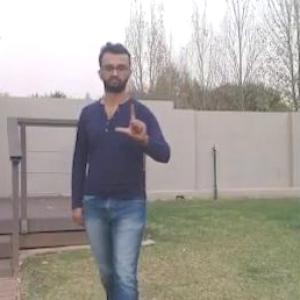land_hand: (114, 99, 150, 145)
